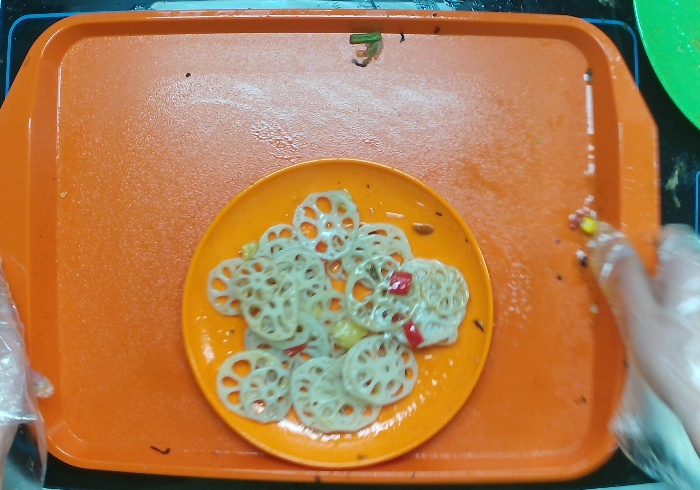HZYJPL-Ju_Huang_Yuan_Pan: (177, 159, 496, 472)
